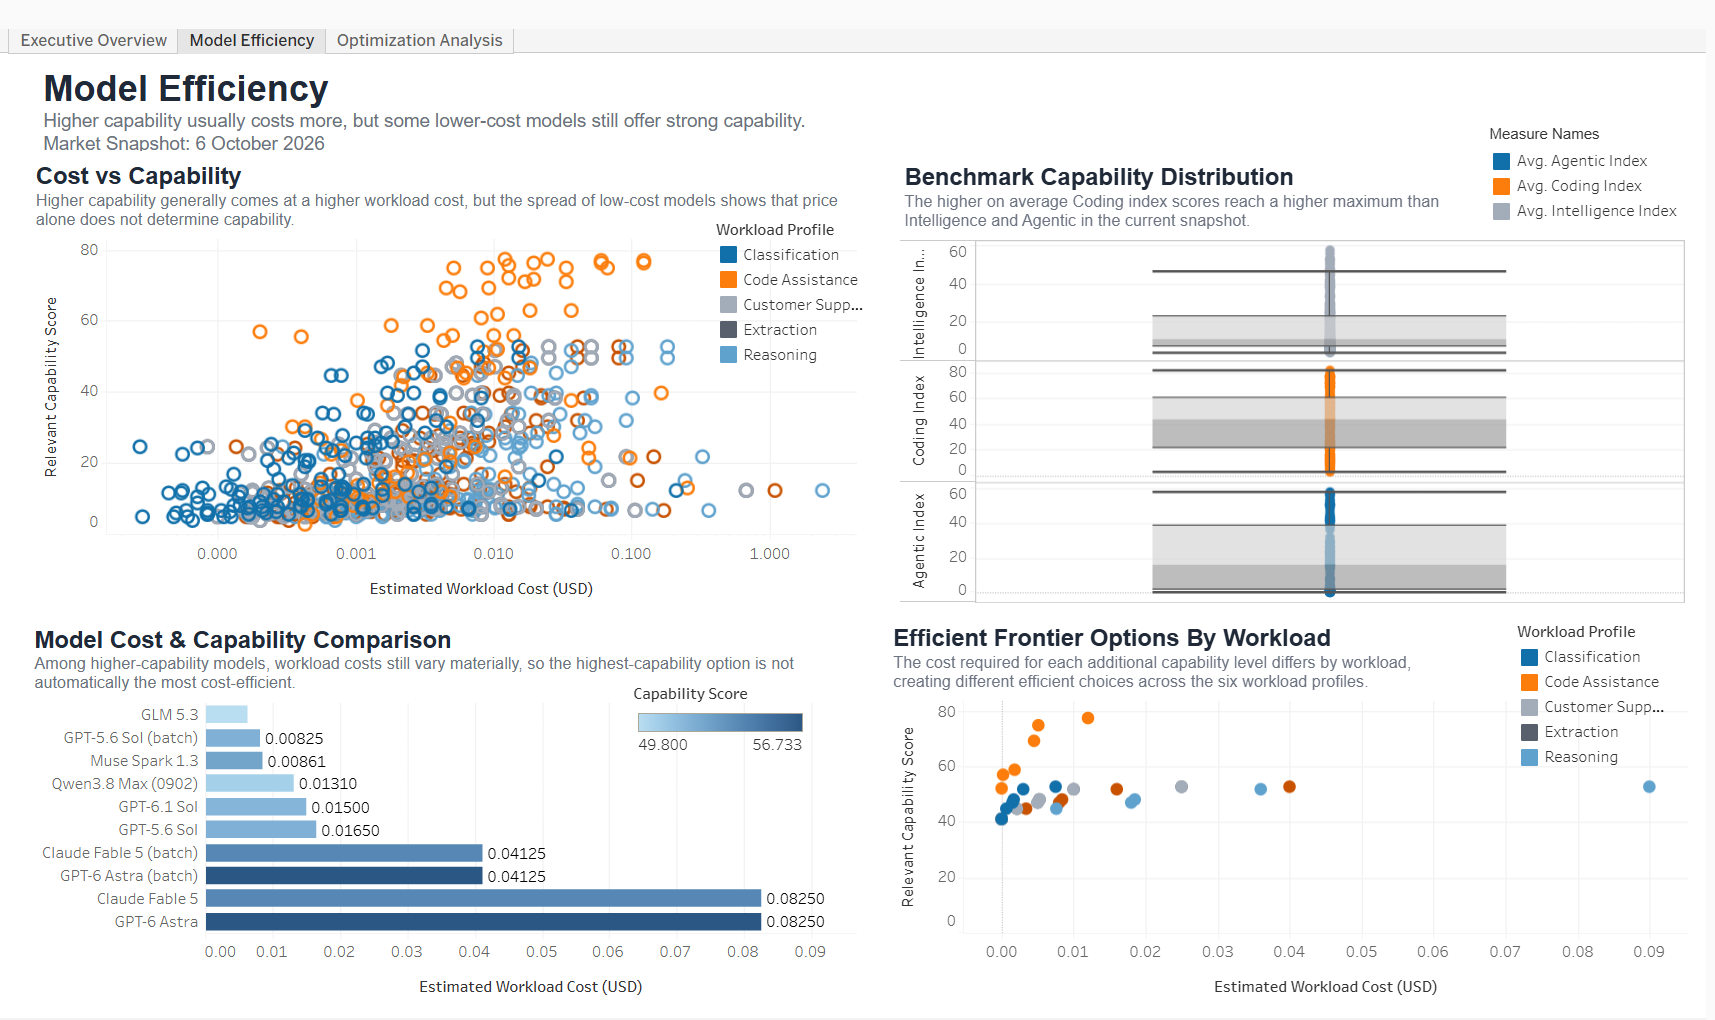

The page's visual inventory and layout, read from the dashboard file:
{"tool":"tableau","page":{"name":"Model Efficiency","canvas":[1366,768],"ordinal":1},"visuals":[{"type":"text","box":[36,9,700,67]},{"type":"legend","title":"Benchmark Capability Distribution","param":"[federated.1umnw2g15ppp341fxrmii1baa8bw].[:Measure Names]","box":[1193,55,154,86]},{"type":"worksheet","title":"Cost vs Capability","mark":"Automatic","rows":["relevant_capability_score"],"cols":["estimated_workload_cost"],"box":[26,78,661,361]},{"type":"worksheet","title":"Benchmark Capability Distribution","mark":"Circle","rows":["intelligence_index","coding_index","agentic_index"],"box":[721,79,628,358]},{"type":"legend","title":"Cost vs Capability","param":"[federated.0n1zy8c00xg5gq17y7qdt1kaebax].[none:workload_profile:nk]","box":[574,130,141,119]},{"type":"worksheet","title":"Efficient Frontier Options By Workload","mark":"Circle","rows":["relevant_capability_score"],"cols":["estimated_workload_cost"],"box":[712,448,640,310]},{"type":"worksheet","title":"Model Cost & Capability Comparison","mark":"Automatic","rows":["Calculation_0014484176793734"],"cols":["estimated_workload_cost"],"box":[25,449,662,309]},{"type":"legend","title":"Efficient Frontier Options By Workload","param":"[federated.1xmkkbt0auuvyw1c0fi9h1ugej6l].[none:workload_profile:nk]","box":[1215,452,140,117]},{"type":"legend","title":"Model Cost & Capability Comparison","param":"[federated.0n1zy8c00xg5gq17y7qdt1kaebax].[avg:relevant_capability_score:qk]","box":[508,501,140,69]}]}

Visuals, with their boxes on the page's 1366x768 design canvas (x1, y1, x2, y2). These are canvas units, not pixel positions in the 1715x1020 screenshot, which may show the page scaled, cropped or inside an application window:
text: {"x1": 36, "y1": 9, "x2": 736, "y2": 76}
"Benchmark Capability Distribution" legend: {"x1": 1193, "y1": 55, "x2": 1347, "y2": 141}
"Cost vs Capability" worksheet: {"x1": 26, "y1": 78, "x2": 687, "y2": 439}
"Benchmark Capability Distribution" worksheet (Circle marks): {"x1": 721, "y1": 79, "x2": 1349, "y2": 437}
"Cost vs Capability" legend: {"x1": 574, "y1": 130, "x2": 715, "y2": 249}
"Efficient Frontier Options By Workload" worksheet (Circle marks): {"x1": 712, "y1": 448, "x2": 1352, "y2": 758}
"Model Cost & Capability Comparison" worksheet: {"x1": 25, "y1": 449, "x2": 687, "y2": 758}
"Efficient Frontier Options By Workload" legend: {"x1": 1215, "y1": 452, "x2": 1355, "y2": 569}
"Model Cost & Capability Comparison" legend: {"x1": 508, "y1": 501, "x2": 648, "y2": 570}
